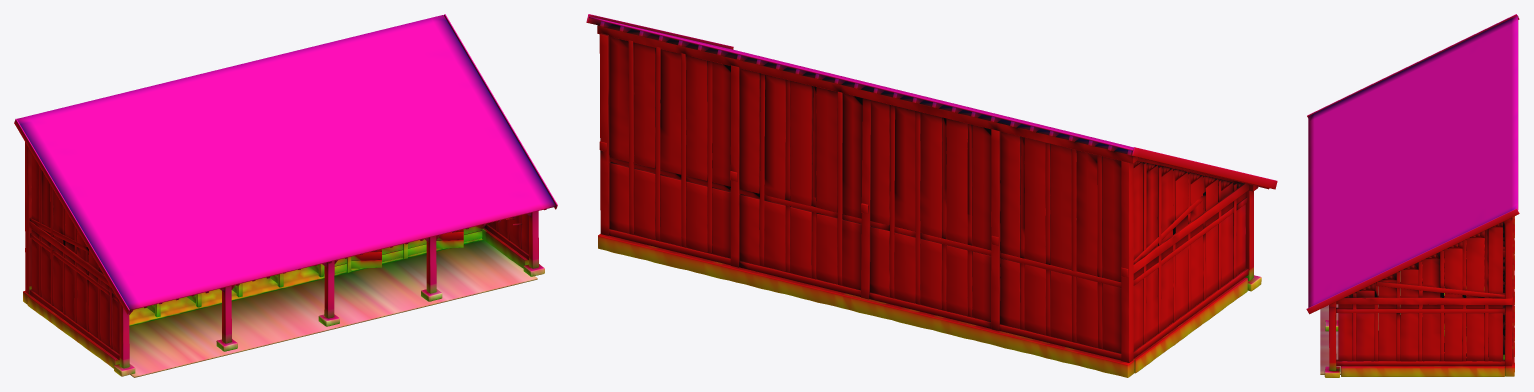
Rendered from SM_Stable.fbx.
3 views of the same model, side by side, from view 1: azimuth 30°, elevation 25°; view 2: azimuth 150°, elevation 25°; view 3: azimuth 270°, elevation 25° (orthographic). The views are drawn at different scales.
Visible parts, largest first — view 1: SM_Stable; view 2: SM_Stable; view 3: SM_Stable.
Part boxes in pixels (x1=…): SM_Stable: x1=14, y1=14, x2=557, y2=377; SM_Stable: x1=586, y1=14, x2=1277, y2=377; SM_Stable: x1=1306, y1=14, x2=1519, y2=377.
Size of what is drawn, in the model's own units: 16.8 by 6.96 by 7.76.
